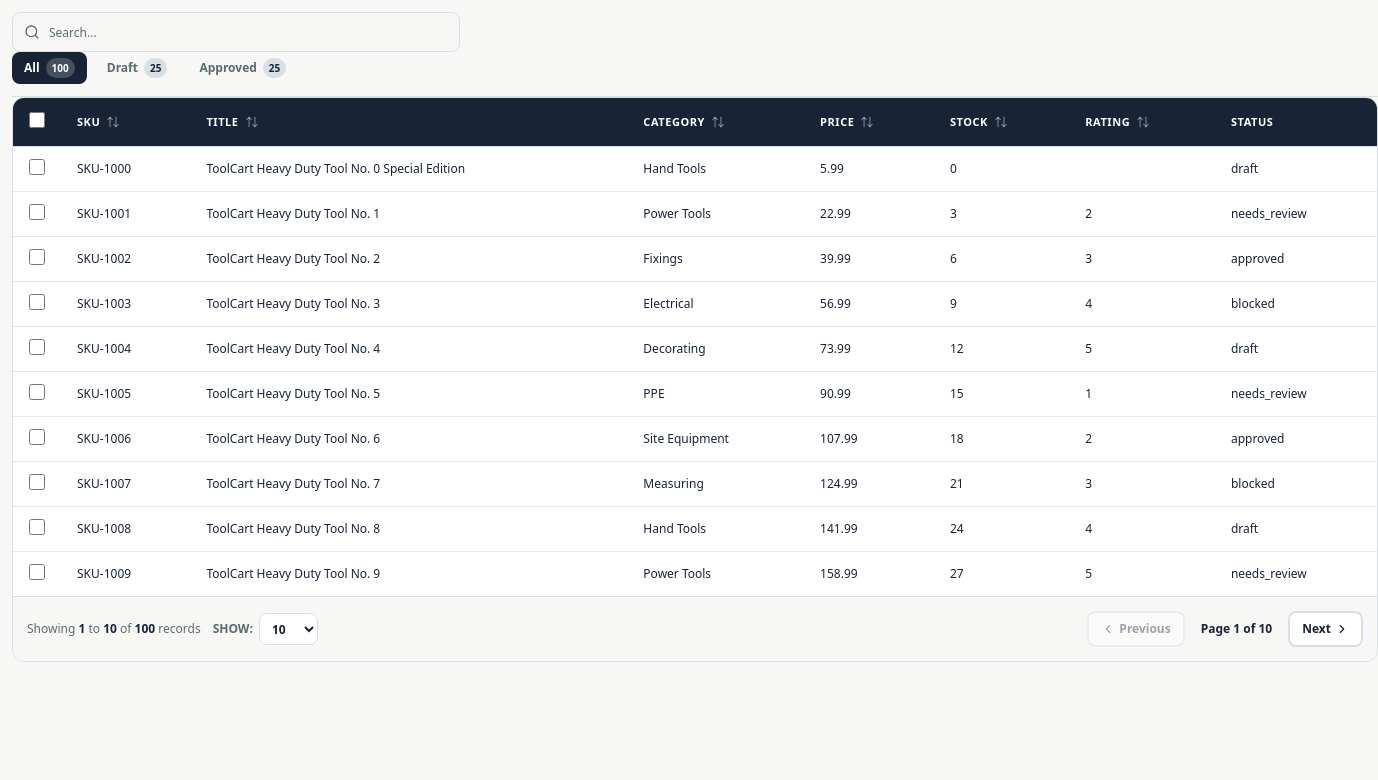
Test: Challenger M2: Headless Data Table Primitives Adversarial Stress Suite › Dimension 5: Indeterminate Header Selection & DOM Integration › filters correctly using DataTableFacetedFilter and DataTableSearch primitives
Note: Click Approved filter
Click the button "Approved 25".
click(243, 68)  # box [187, 52, 298, 84]
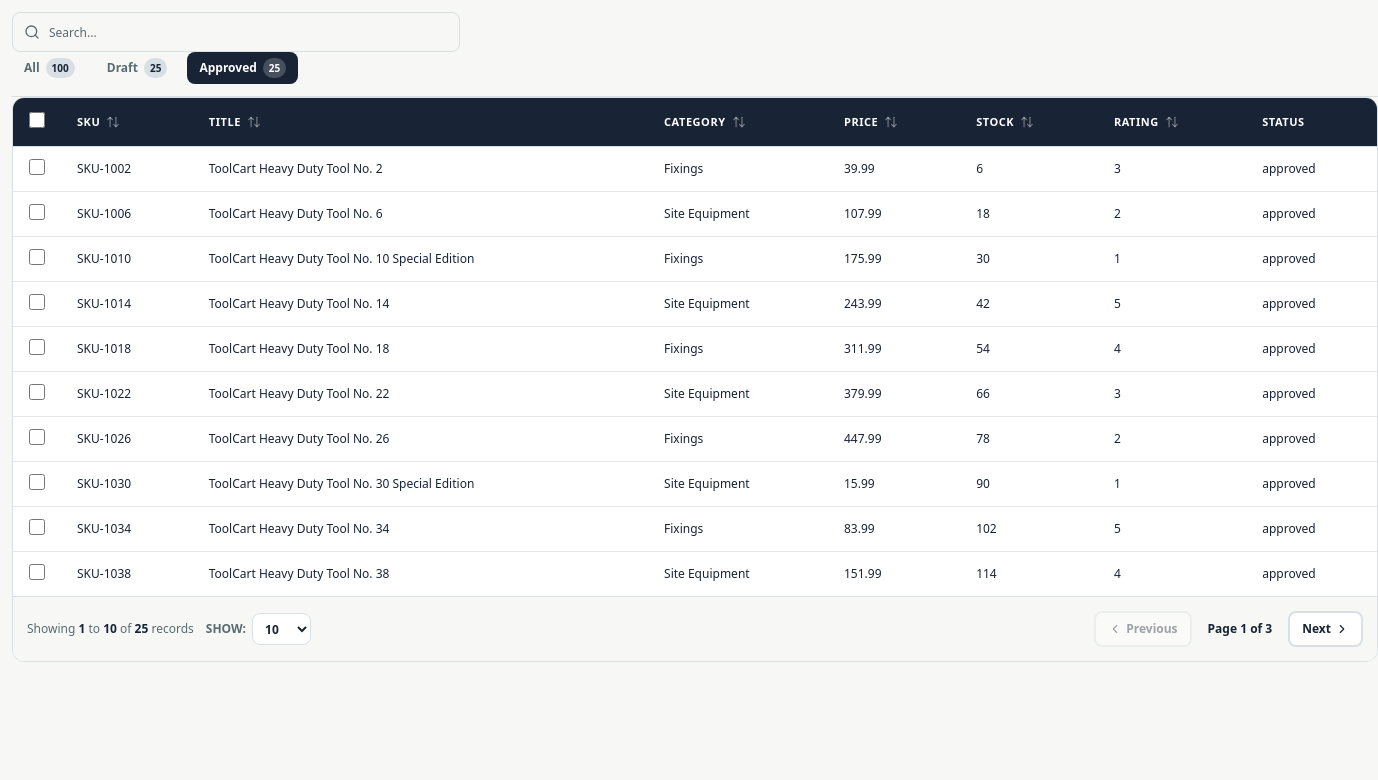
Now the text "Showing 1 to 10 of 25 records" is shown, box [27, 621, 194, 637]
